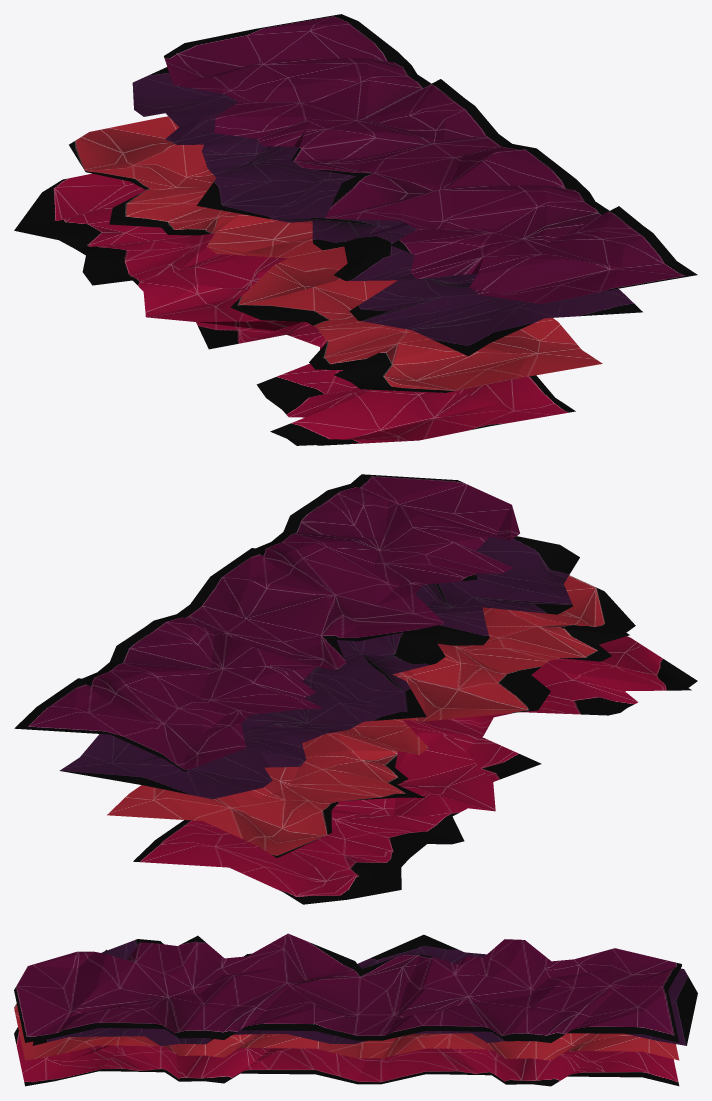
The model's file is Paroi_R.fbx.
3 renders of one model, top to bottom at view 1: azimuth 30°, elevation 25°; view 2: azimuth 150°, elevation 25°; view 3: azimuth 270°, elevation 25°, orthographic. The views are drawn at different scales.
Visible parts, largest first — view 1: Paroi_01_R1, Paroi_01_R13, Paroi_02_R8, Paroi_04_R6, Paroi_04_R9, Paroi_02_R3, Paroi_01_R7, Paroi_03_R1, Paroi_04_R1, Paroi_03_R10, Paroi_01_R6, Paroi_03_R5 (+24 smaller); view 2: Paroi_01_R1, Paroi_02_R8, Paroi_04_R1, Paroi_04_R8, Paroi_01_R13, Paroi_02_R3, Paroi_01_R7, Paroi_03_R3, Paroi_03_R10, Paroi_04_R9, Paroi_03_R1, Paroi_03_R4 (+25 smaller); view 3: Paroi_01_R1, Paroi_01_R13, Paroi_01_R7, Paroi_01_R5, Paroi_01_R6, Paroi_01_R11, Paroi_01_R12, Paroi_04_R10, Paroi_04_R2, Paroi_04_R7, Paroi_01_R9, Paroi_01_R2 (+20 smaller).
Part boxes in pixels (box(x1,y1,x2,y2)): Paroi_01_R1: box(255, 14, 416, 101); Paroi_01_R13: box(315, 74, 498, 157); Paroi_02_R8: box(349, 280, 543, 356); Paroi_04_R6: box(270, 389, 499, 445); Paroi_04_R9: box(75, 236, 258, 316); Paroi_02_R3: box(196, 146, 349, 222); Paroi_01_R7: box(544, 206, 697, 289); Paroi_03_R1: box(69, 117, 206, 190); Paroi_04_R1: box(14, 173, 147, 248); Paroi_03_R10: box(109, 167, 286, 251); Paroi_01_R6: box(417, 245, 620, 303); Paroi_03_R5: box(334, 346, 526, 392); Paroi_01_R1: box(14, 672, 204, 734); Paroi_02_R8: box(433, 536, 579, 614); Paroi_04_R1: box(229, 847, 409, 904); Paroi_04_R8: box(398, 733, 541, 811); Paroi_01_R13: box(98, 614, 283, 697); Paroi_02_R3: box(251, 665, 426, 729); Paroi_01_R7: box(290, 474, 457, 538); Paroi_03_R3: box(409, 648, 550, 721); Paroi_03_R10: box(259, 731, 425, 800); Paroi_04_R9: box(325, 782, 494, 858); Paroi_03_R1: box(168, 792, 339, 857); Paroi_03_R4: box(467, 614, 629, 674); Paroi_01_R1: box(528, 980, 679, 1042); Paroi_01_R13: box(382, 987, 531, 1041); Paroi_01_R7: box(14, 989, 164, 1042); Paroi_01_R5: box(145, 977, 287, 1039); Paroi_01_R6: box(14, 943, 144, 1016); Paroi_01_R11: box(285, 933, 361, 1019); Paroi_01_R12: box(357, 954, 433, 1040); Paroi_04_R10: box(531, 1051, 679, 1086); Paroi_04_R2: box(382, 1048, 531, 1084); Paroi_04_R7: box(240, 1048, 397, 1084); Paroi_01_R9: box(183, 933, 287, 992); Paroi_01_R2: box(529, 948, 681, 995).
Size of the model in its own units: 33.77 by 11.1 by 56.78.
